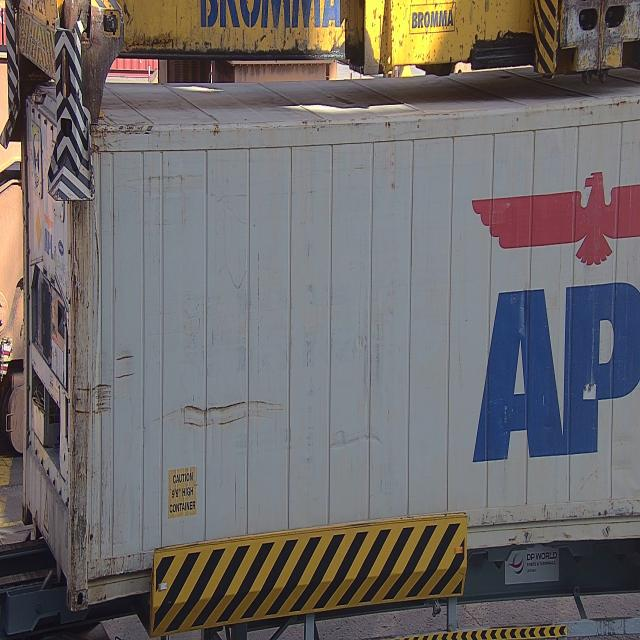dent: (177, 390, 279, 437), (113, 348, 140, 389)
